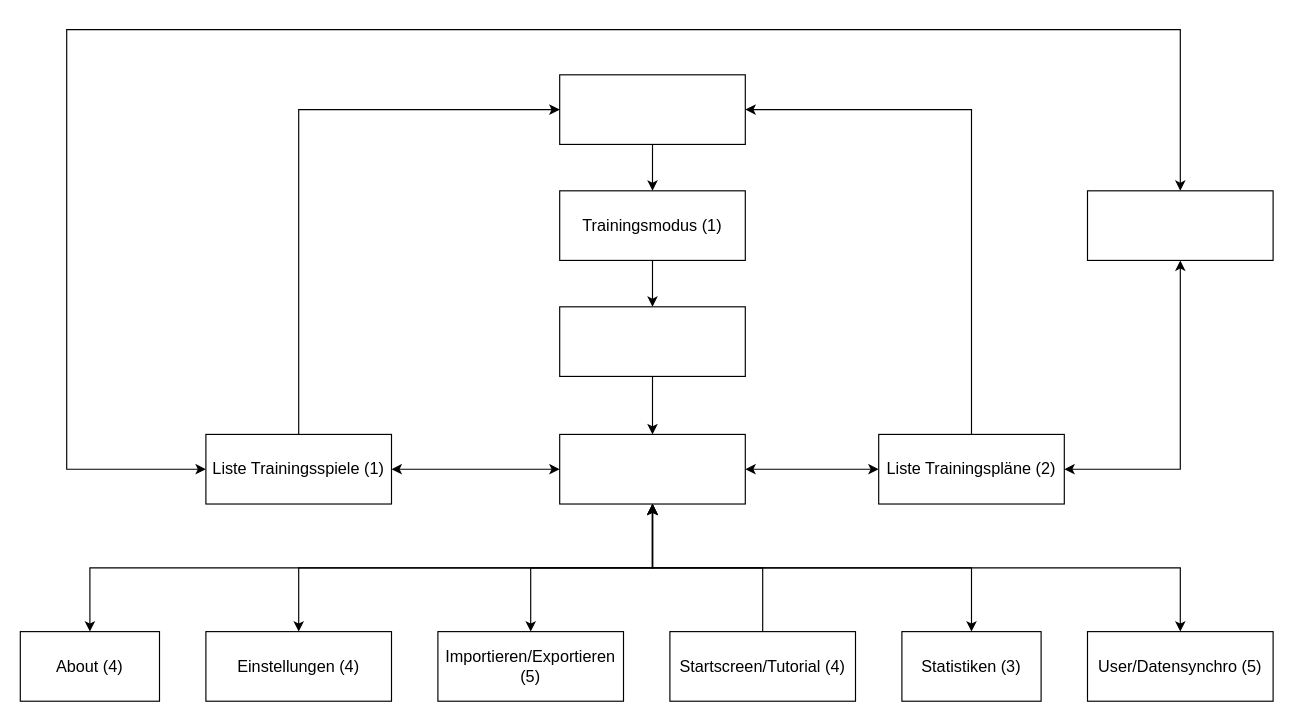
This 1293x722 diagram has some shape labels left out. The shapes that lost their labels are listed below. From the top down, each one's centre as x and y in pixels, then its label:
At point (652, 109): "Regeln Trainingsspiel (3)".
At point (1179, 225): "Anlegen Trainingsplan (2)".
At point (652, 341): "Übersicht nach Trainingsende (2)".
At point (652, 468): "Hauptmenü (1)".
